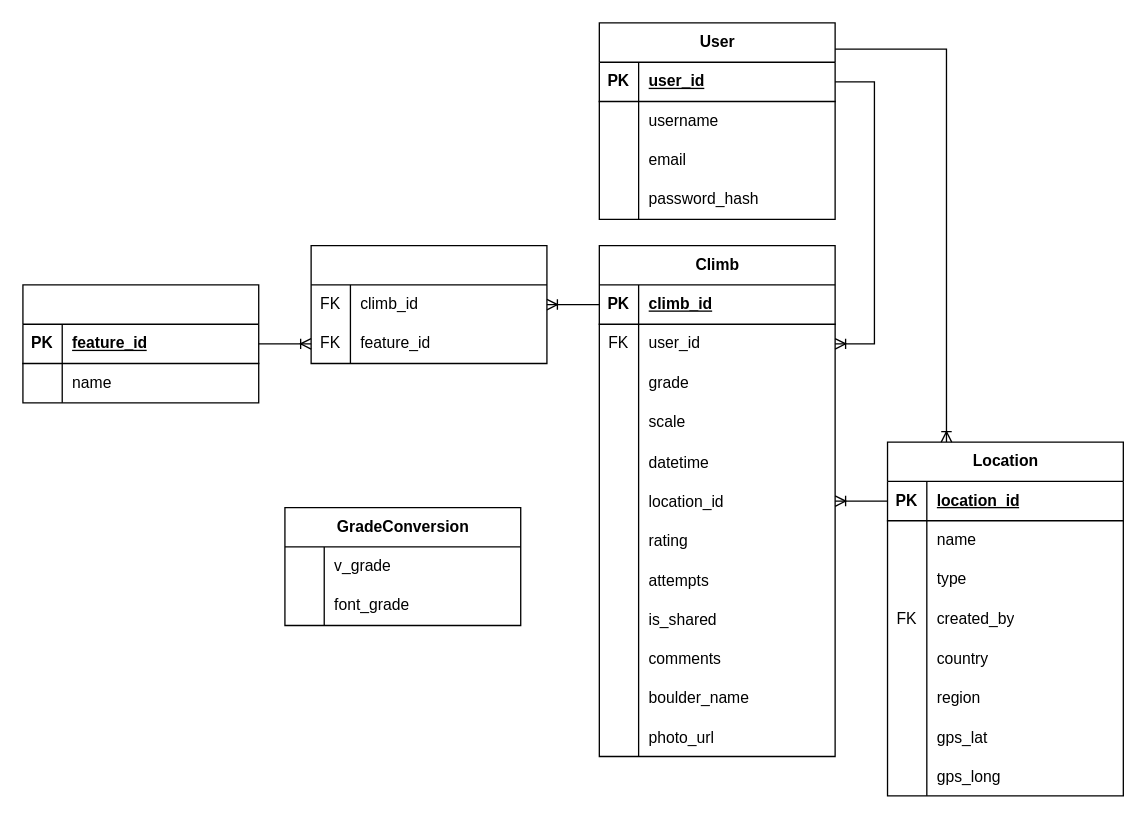
Image size: 1146x819. Some labels were removed from this diagram. Here are the shapes that lost their labels. From the top down, the box of each, then its label:
(310, 244, 547, 364): ClimbFeature
(22, 284, 259, 403): FeatureTag
